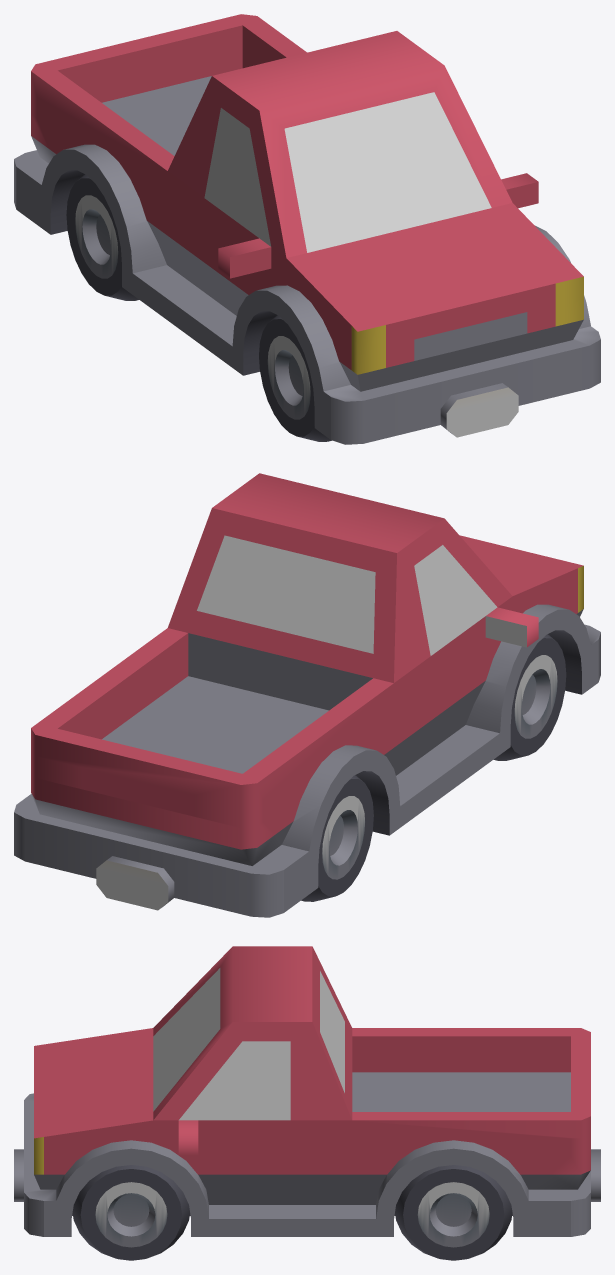
File: truck.glb
The picture shows the model from 3 angles, top to bottom: view 1: azimuth 30°, elevation 25°; view 2: azimuth 150°, elevation 25°; view 3: azimuth 270°, elevation 25°; orthographic projection. The views are drawn at different scales.
Visible parts, largest first — view 1: truck; view 2: truck; view 3: truck.
Boxes of the visible parts, x1,y1,x2,y2 form: truck: (14,14,600,444); truck: (14,473,600,917); truck: (14,946,600,1260).
Size of the model in its own units: 0.525 by 0.455 by 1.03.
